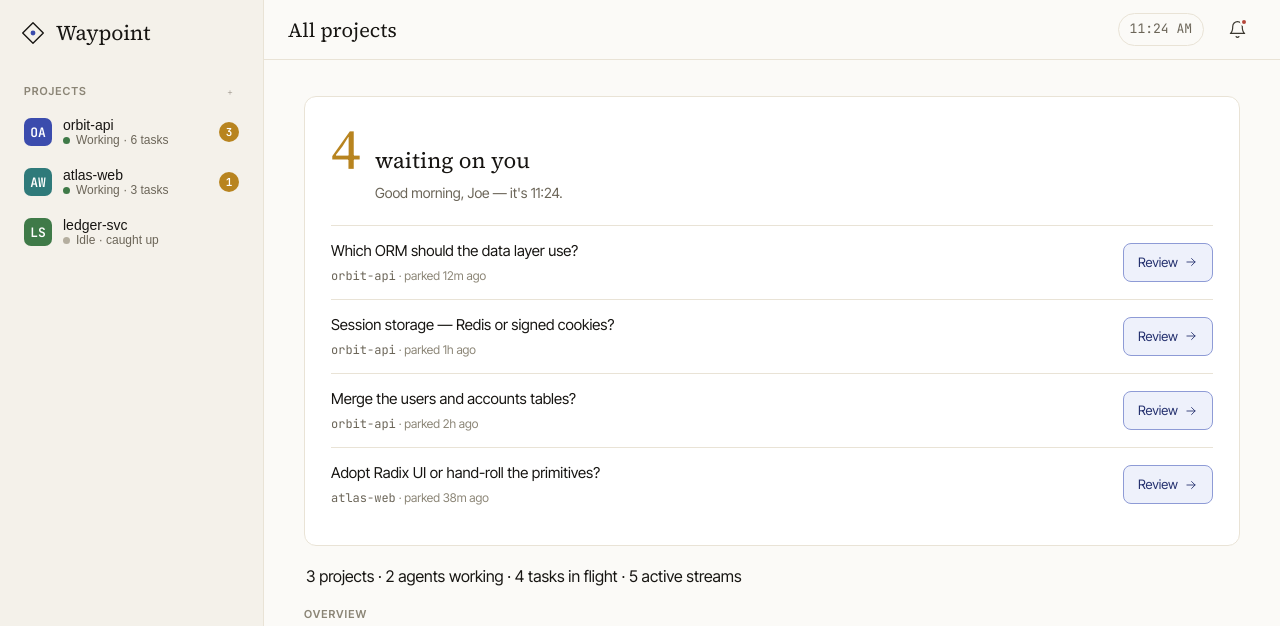
Test: App shell › toggles the notifications popover from the bell
Expected: the dialog "Notifications" is not shown
Step 1. Click the button named "Notifications" → (1237, 30), box x1=1218 y1=10 x2=1256 y2=48
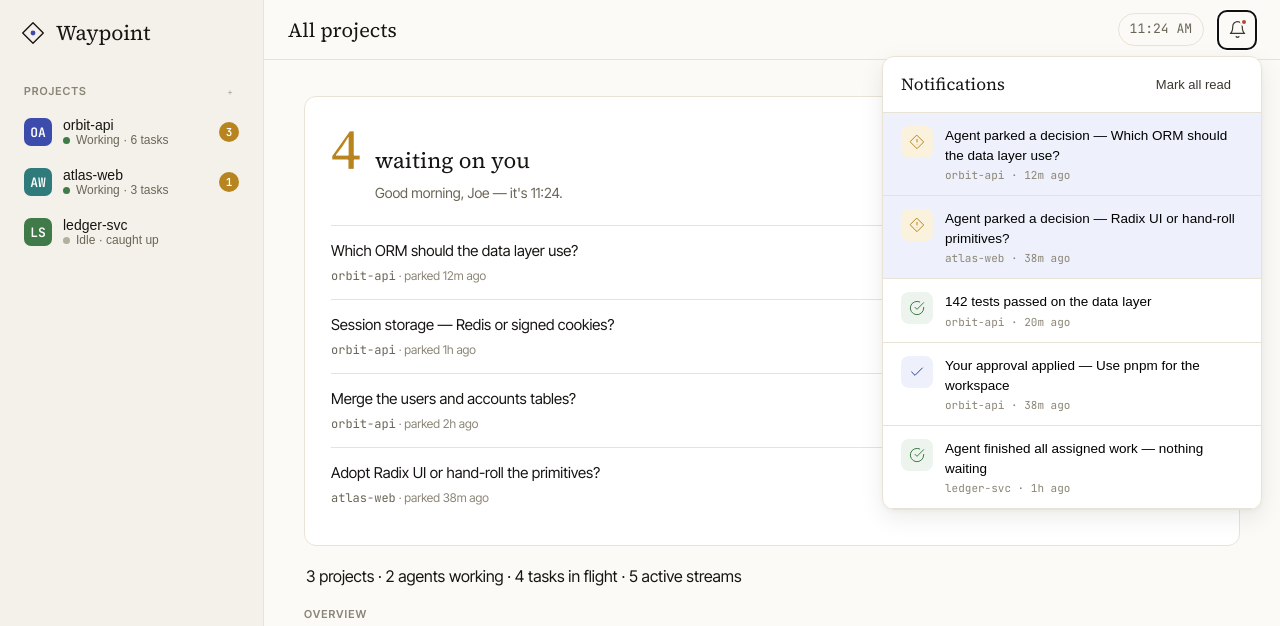
Expected: the dialog "Notifications" is shown, x1=882 y1=56 x2=1262 y2=510
